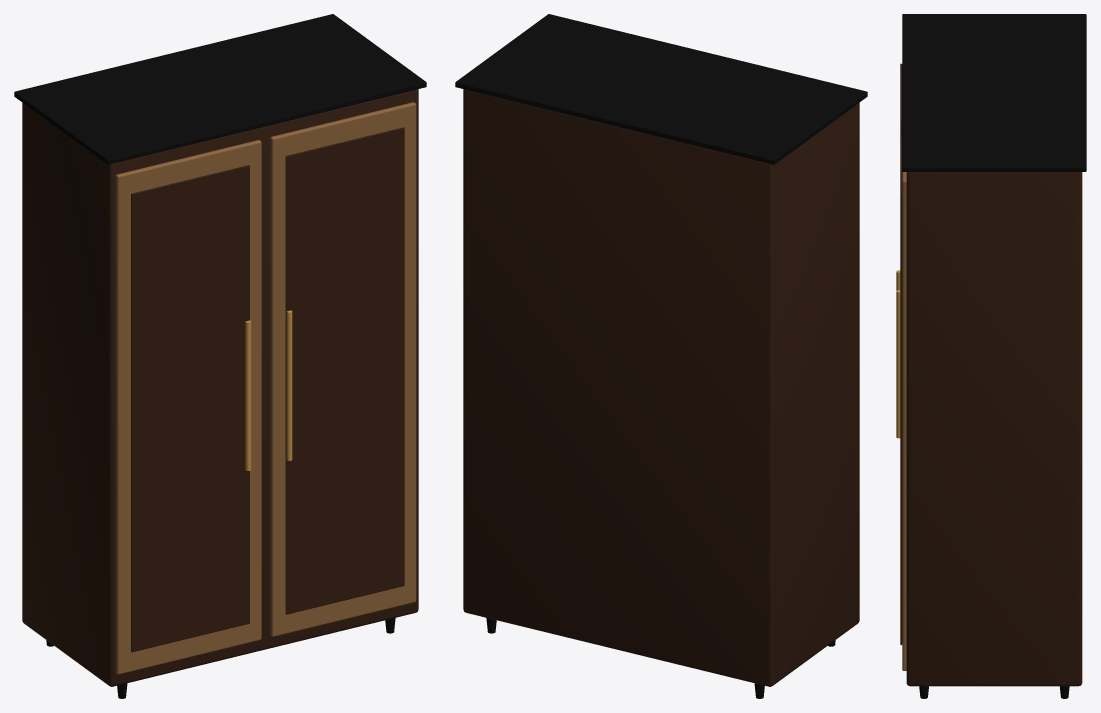
The model's file is modern_wardrobe.obj.
The picture shows the model from 3 angles, left to right: view 1: azimuth 30°, elevation 25°; view 2: azimuth 150°, elevation 25°; view 3: azimuth 270°, elevation 25°; orthographic projection.
Visible parts, largest first — view 1: body, door_panel.001, door_panel, top, door.001, door, handle, handle.001; view 2: body, top; view 3: body, top, door.001, door_panel.001, handle.001.
Boxes of the visible parts, x1,y1,x2,y2 form: body: [22, 89, 418, 686]; door_panel.001: [285, 127, 404, 614]; door_panel: [131, 165, 249, 652]; top: [14, 14, 426, 164]; door.001: [270, 102, 416, 636]; door: [115, 140, 261, 674]; handle: [245, 320, 251, 470]; handle.001: [286, 310, 292, 460]; body: [463, 89, 859, 686]; top: [455, 14, 867, 164]; body: [906, 172, 1082, 686]; top: [902, 14, 1086, 171]; door.001: [902, 172, 906, 670]; door_panel.001: [900, 137, 902, 645]; handle.001: [896, 290, 900, 438].
Bounding box in the file's own units: 1.24 × 2.05 × 0.65.
